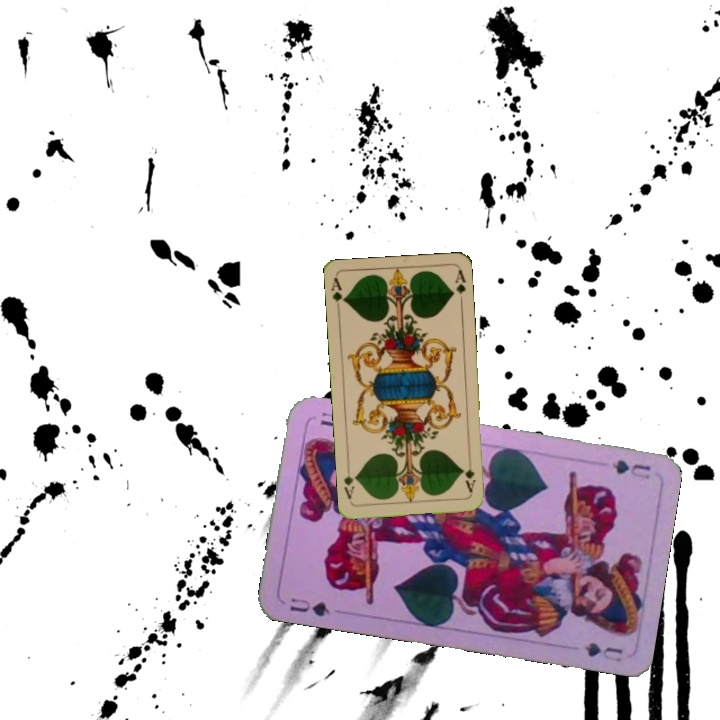GA: (328, 274, 348, 315), (460, 455, 478, 495)
GU: (286, 593, 332, 619), (607, 456, 653, 482)
